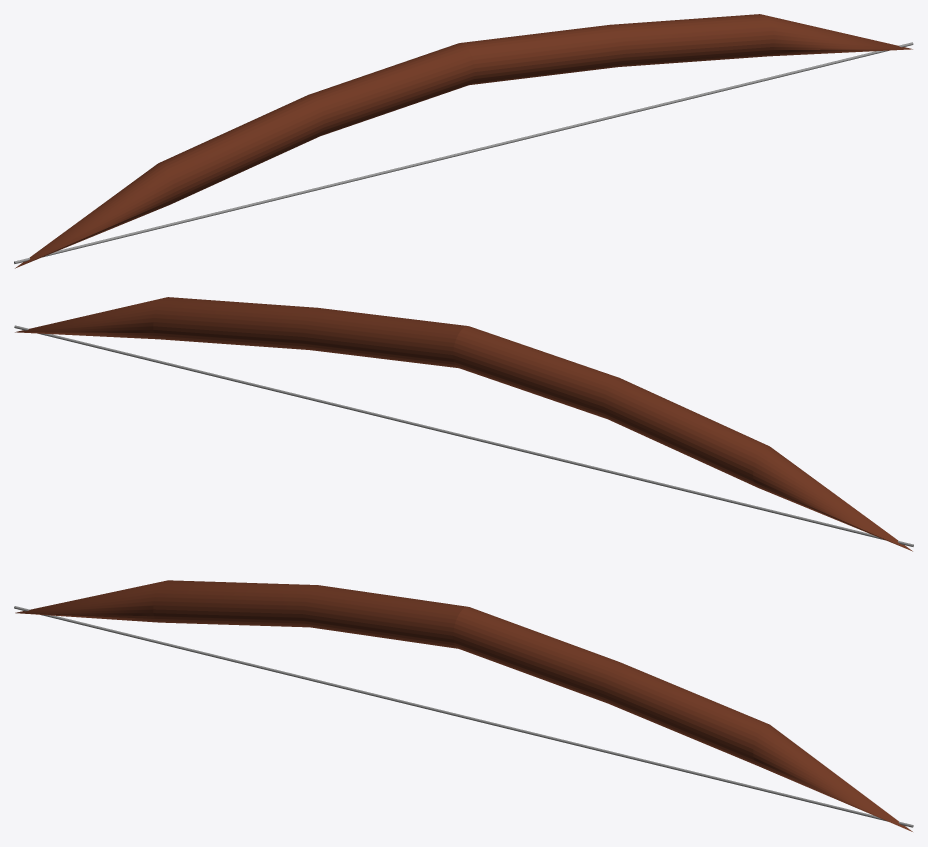
Rendered from bow.fbx.
3 renders of one model, top to bottom at view 1: azimuth 30°, elevation 25°; view 2: azimuth 150°, elevation 25°; view 3: azimuth 330°, elevation 25°, orthographic.
Visible parts, largest first — view 1: Cylinder, Cylinder.001; view 2: Cylinder, Cylinder.001; view 3: Cylinder, Cylinder.001.
Part boxes in pixels (box(x1,y1,x2,y2)): Cylinder: box(15, 14, 912, 268); Cylinder.001: box(14, 42, 913, 263); Cylinder: box(15, 297, 912, 551); Cylinder.001: box(14, 325, 913, 546); Cylinder: box(15, 580, 912, 831); Cylinder.001: box(14, 606, 913, 827).
Bounding box in the file's own units: 225 × 27.37 × 9.38.
